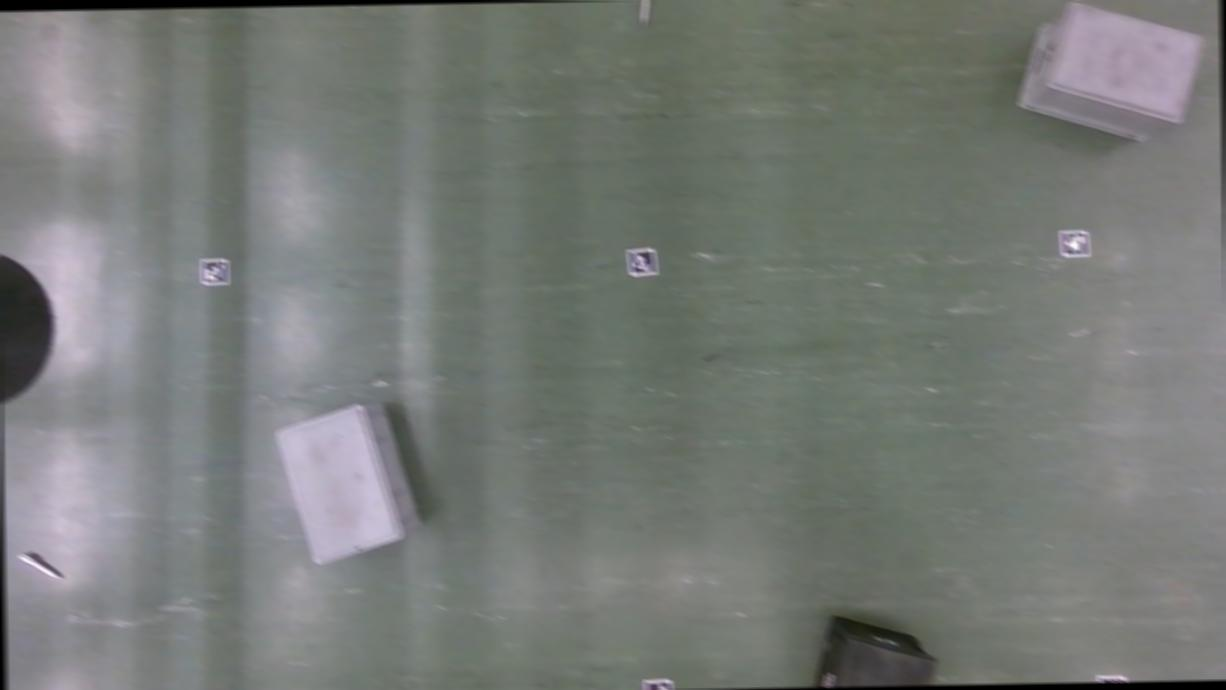probes: (17, 548, 64, 578), (640, 0, 653, 24)
rako: (1010, 0, 1210, 147), (272, 403, 424, 566), (805, 614, 940, 686)
